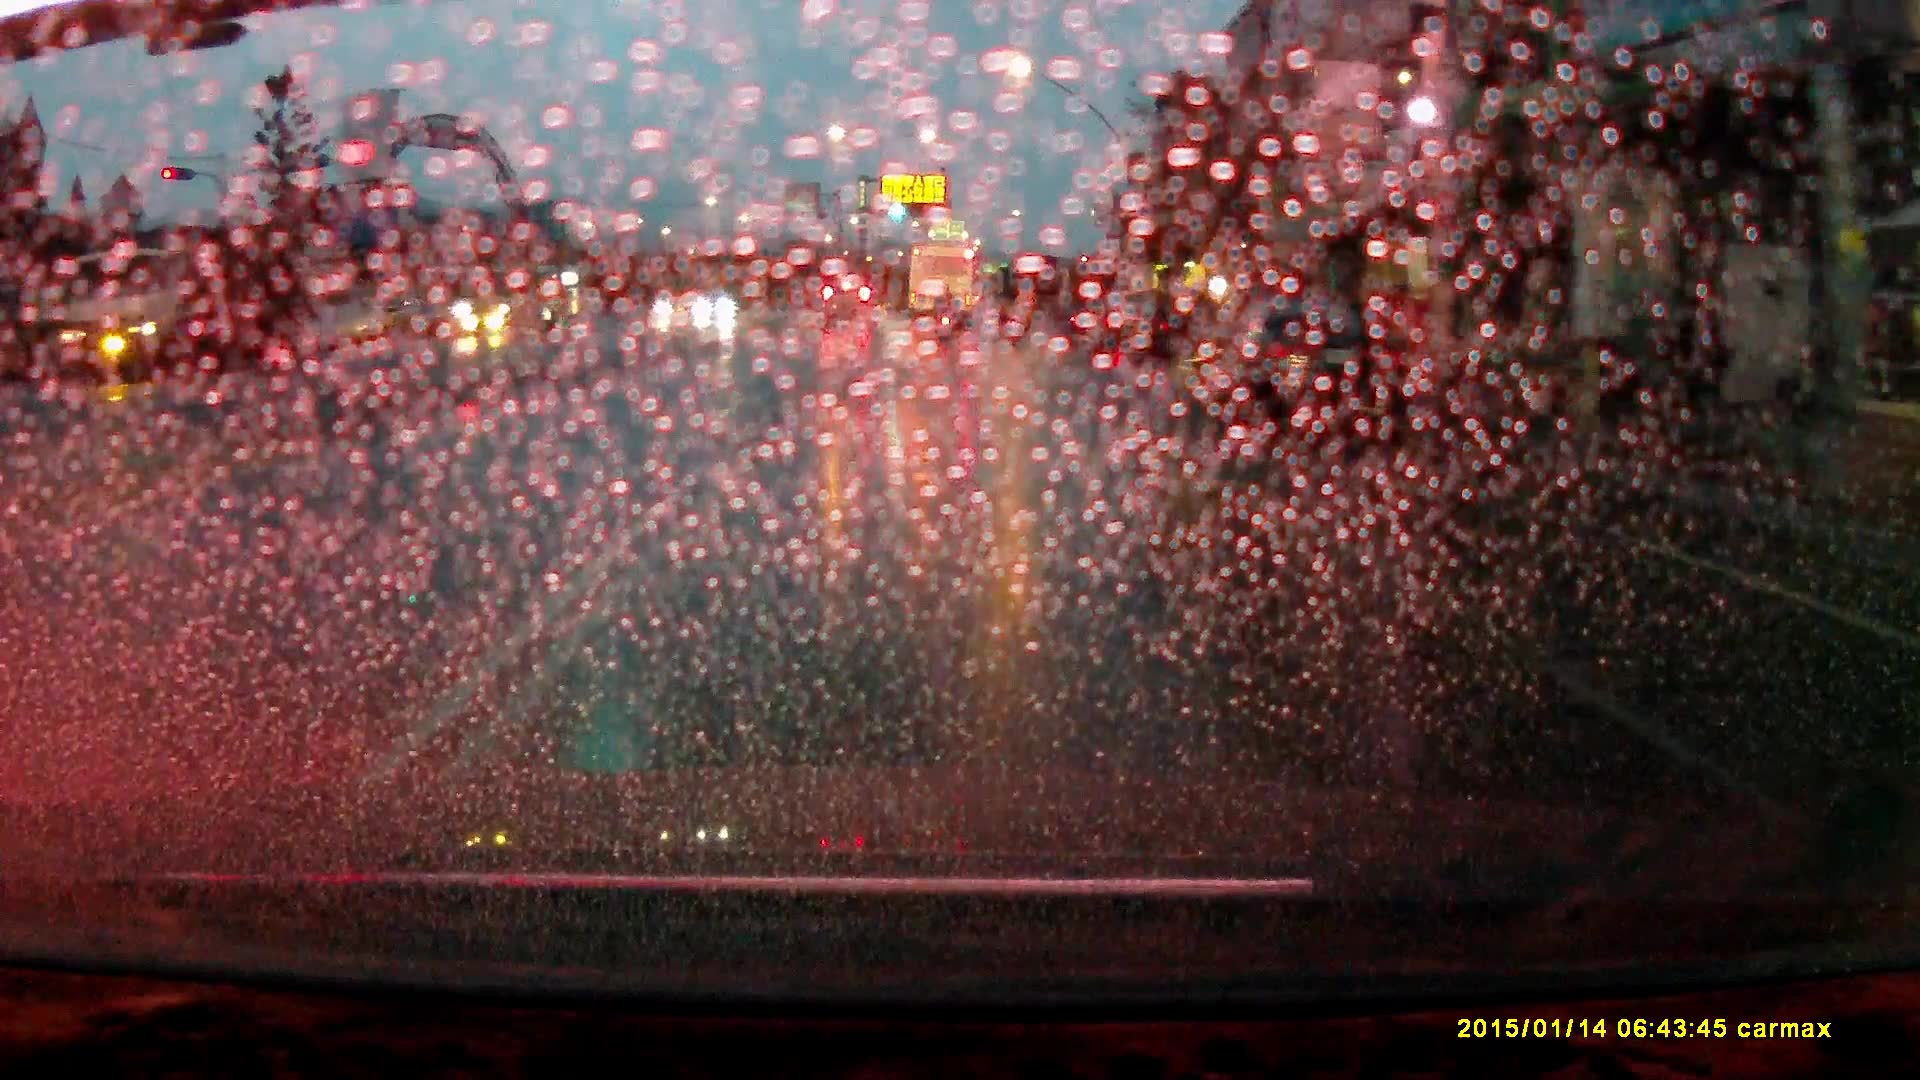rider: (934, 289, 961, 351)
vehicle: (53, 247, 268, 384), (1217, 312, 1419, 434), (456, 264, 567, 340), (909, 240, 978, 330), (1089, 305, 1176, 365), (821, 286, 882, 335), (691, 293, 739, 323)
